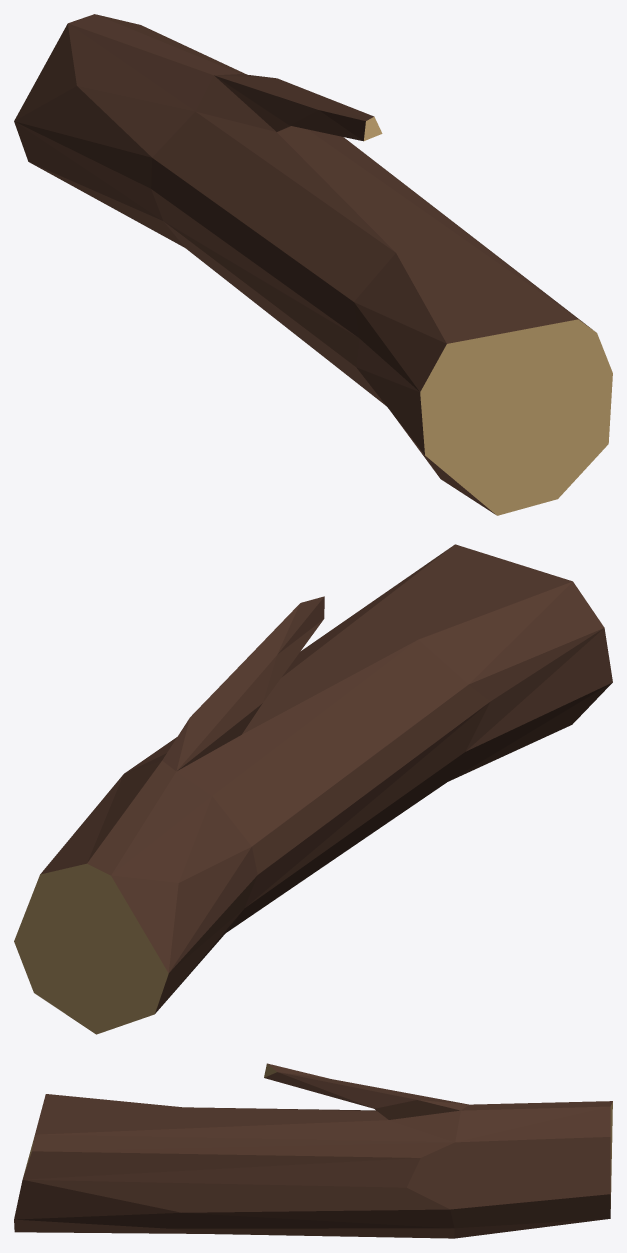
File: trunk.fbx
3 views of the same model, one above another, from view 1: azimuth 30°, elevation 25°; view 2: azimuth 150°, elevation 25°; view 3: azimuth 270°, elevation 25° (orthographic). The views are drawn at different scales.
Parts seen in each view (by area): view 1: Cylinder; view 2: Cylinder; view 3: Cylinder.
Part boxes in pixels (bbox=[...]): Cylinder: bbox=[14, 14, 612, 515]; Cylinder: bbox=[14, 544, 612, 1034]; Cylinder: bbox=[14, 1063, 612, 1238].
Bounding box in the file's own units: 222 × 257 × 828.
